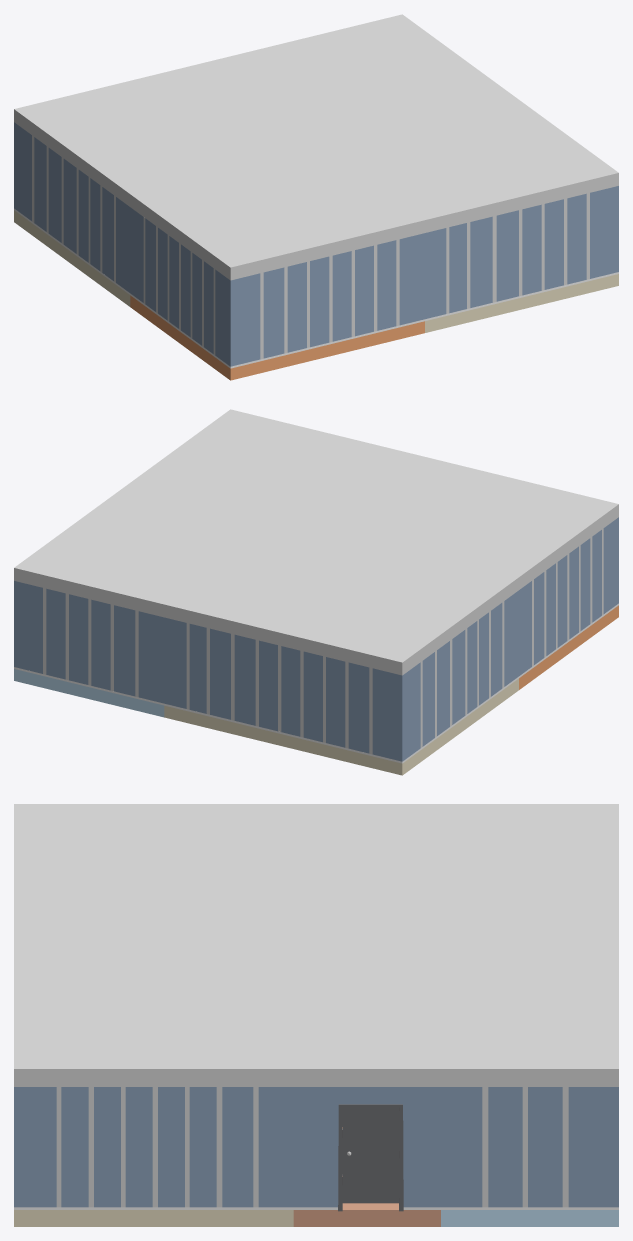
The model's file is housee.fbx.
3 renders of one model, top to bottom at view 1: azimuth 30°, elevation 25°; view 2: azimuth 150°, elevation 25°; view 3: azimuth 270°, elevation 25°, orthographic. The views are drawn at different scales.
Parts seen in each view (by area): view 1: Ceiling, Walls, Ground, WallsTile; view 2: Ceiling, Walls, Ground, WallsTile; view 3: Ceiling, Walls, Ground, Door_003, WallsTile, Wall_028.
Boxes of the visible parts, x1,y1,x2,y2 form: Ceiling: (14,14,618,280); Walls: (14,122,618,366); Ground: (14,210,618,380); WallsTile: (14,208,618,368); Ceiling: (14,409,618,675); Walls: (14,517,618,761); Ground: (14,605,618,775); WallsTile: (14,603,618,763); Ceiling: (14,804,618,1086); Walls: (14,1087,618,1207); Ground: (14,1127,618,1226); Door_003: (342,1107,399,1203); WallsTile: (14,1207,618,1209); Wall_028: (338,1104,403,1211).
Size of the model in its own units: 1161 by 1118 by 322.
